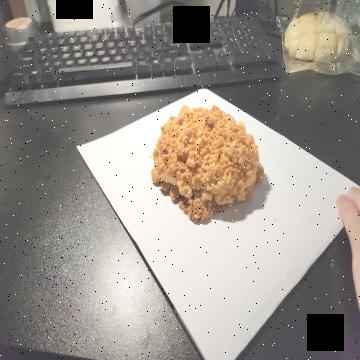soboru_bread: (152, 103, 265, 227)
